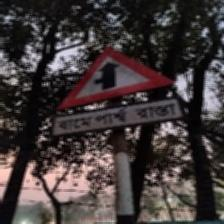Side-road-left: (52, 47, 183, 138)
